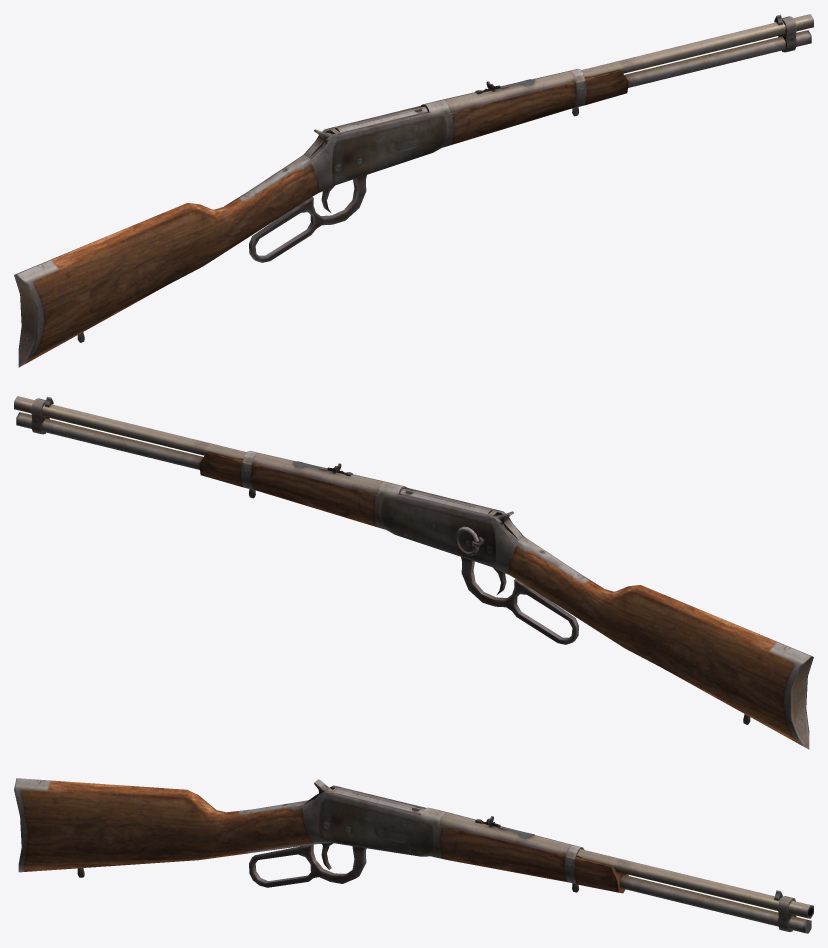
Rendered from ST_WEP_Win1894_Lod.FBX.
3 renders of one model, top to bottom at view 1: azimuth 30°, elevation 25°; view 2: azimuth 150°, elevation 25°; view 3: azimuth 330°, elevation 25°, orthographic.
Visible parts, largest first — view 1: ST_WEP_Win1894_Lod; view 2: ST_WEP_Win1894_Lod; view 3: ST_WEP_Win1894_Lod.
Part boxes in pixels (x1=…): ST_WEP_Win1894_Lod: x1=14, y1=14, x2=813, y2=367; ST_WEP_Win1894_Lod: x1=14, y1=396, x2=813, y2=749; ST_WEP_Win1894_Lod: x1=14, y1=778, x2=813, y2=933.
Size of the model in its own units: 96.1 by 19.63 by 4.23.
1 material, 1 textured.
